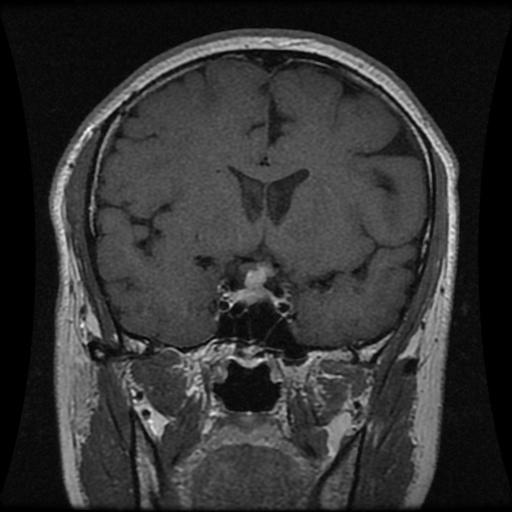pituitary: (226, 266, 275, 302)
